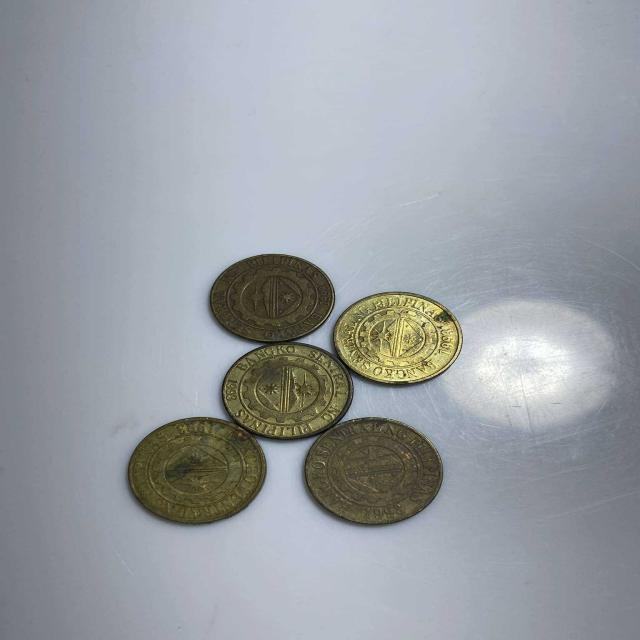25Cent_Old_Back: (130, 418, 267, 521), (303, 422, 441, 524), (226, 344, 348, 438), (339, 293, 459, 382), (214, 253, 335, 339)
